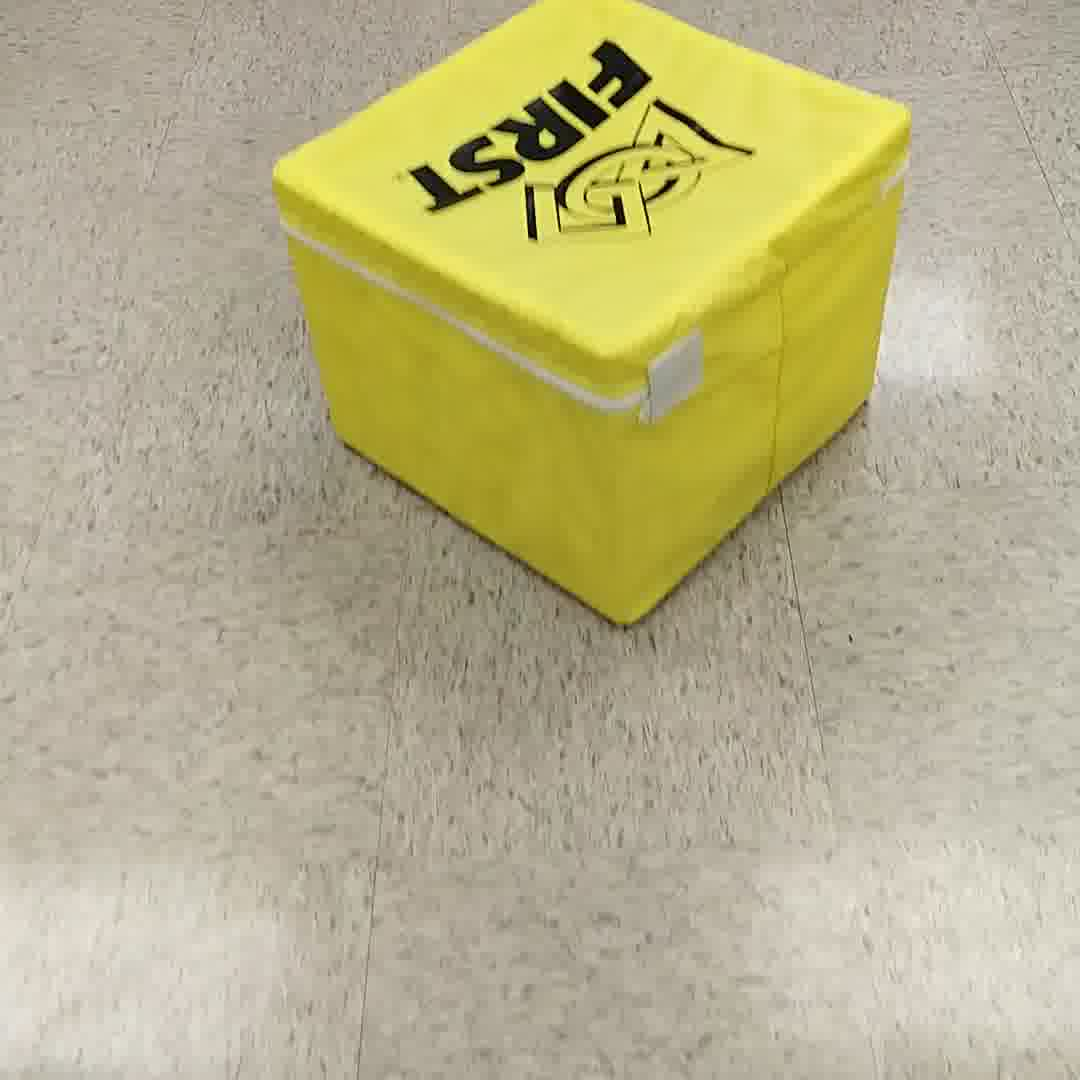box: (272, 9, 919, 627)
